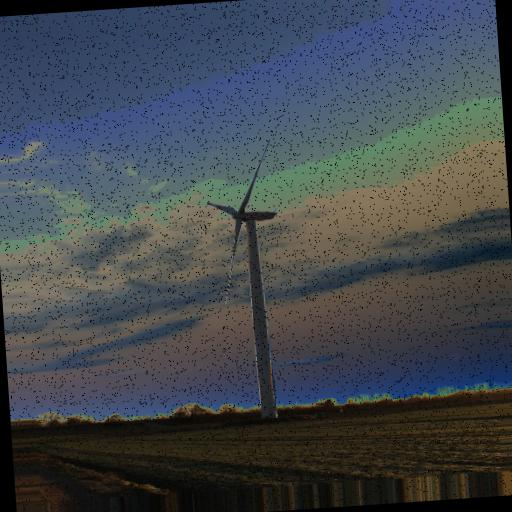wind turbine: (205, 138, 281, 422)
